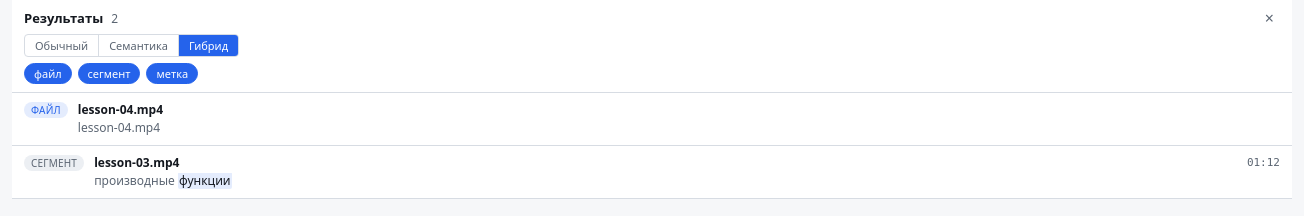
SearchResults › фильтрует результаты по kind-чипам
Check: the 1st text "lesson-04.mp4" is shown, box [78, 101, 163, 118]
Step 1. Click the button "файл" → (48, 74), box [24, 63, 72, 84]
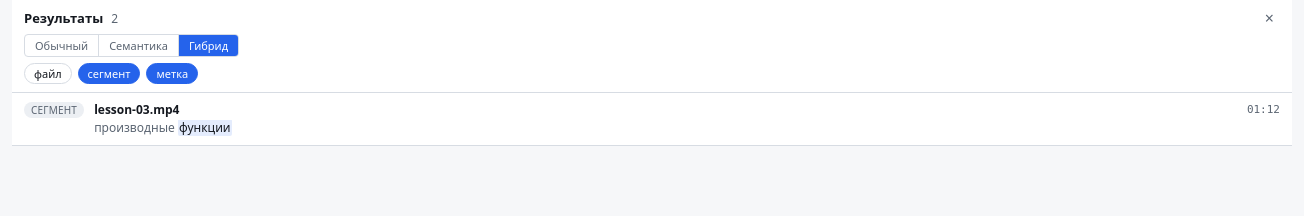
Check: the text "lesson-03.mp4" is shown, box [94, 101, 179, 118]
Check: the button "lesson-04.mp4" is gone
